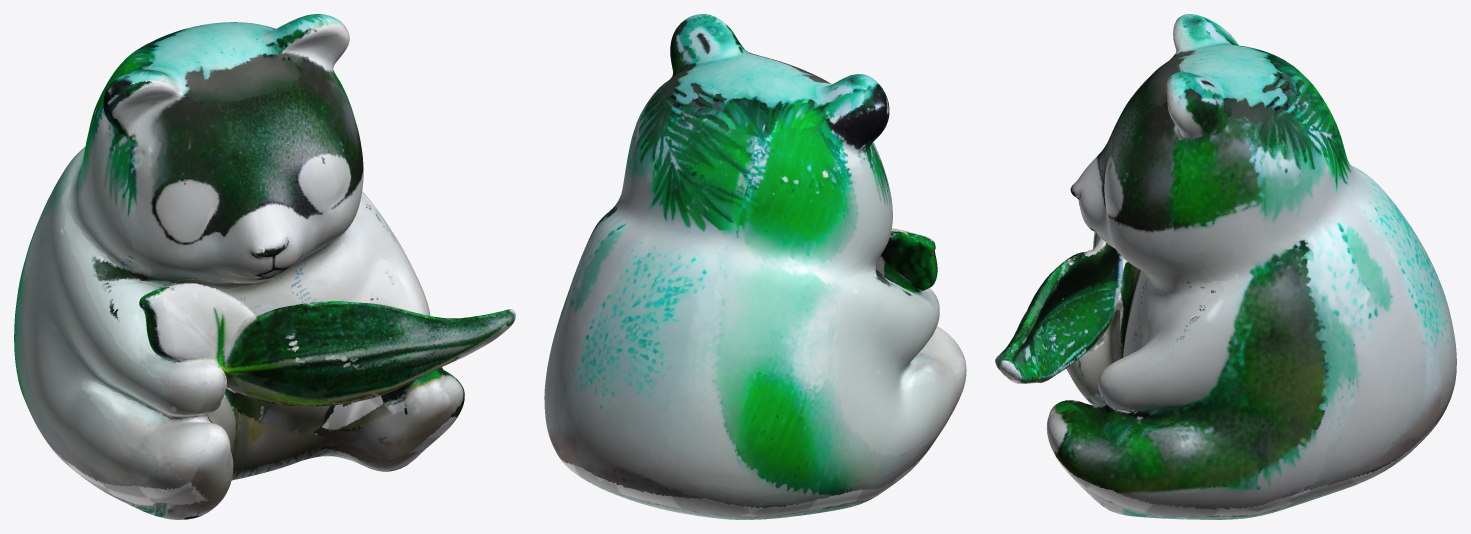
File: text2tex.glb
The picture shows the model from 3 angles, left to right: view 1: azimuth 30°, elevation 25°; view 2: azimuth 150°, elevation 25°; view 3: azimuth 270°, elevation 25°; orthographic projection. The views are drawn at different scales.
Parts seen in each view (by area): view 1: 9; view 2: 9; view 3: 9.
Boxes of the visible parts, left/top/right/bottom form: 9: left=14, top=14, right=515, bottom=519; 9: left=544, top=14, right=966, bottom=519; 9: left=995, top=14, right=1456, bottom=519.
Bounding box in the file's own units: 0.8047 × 1 × 0.987.
Materials: 1 (1 with a texture image).
